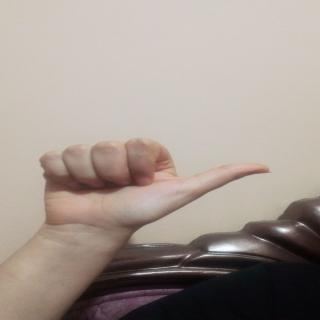DAD: (19, 142, 276, 208)
